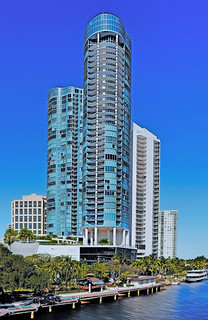low: (44, 6, 133, 258), (134, 122, 161, 266)
